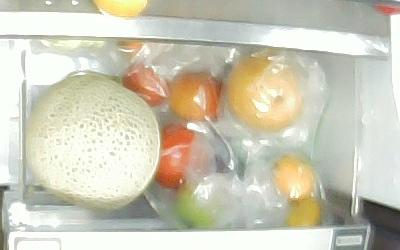melon: (27, 74, 160, 207)
pear_vinyl: (226, 59, 308, 131)
prune_vinyl: (169, 69, 226, 121)
tangerine_vinyl: (270, 155, 316, 202), (283, 196, 323, 228)
tomato_vinyl: (153, 127, 209, 188), (178, 180, 223, 228), (121, 64, 169, 108)
